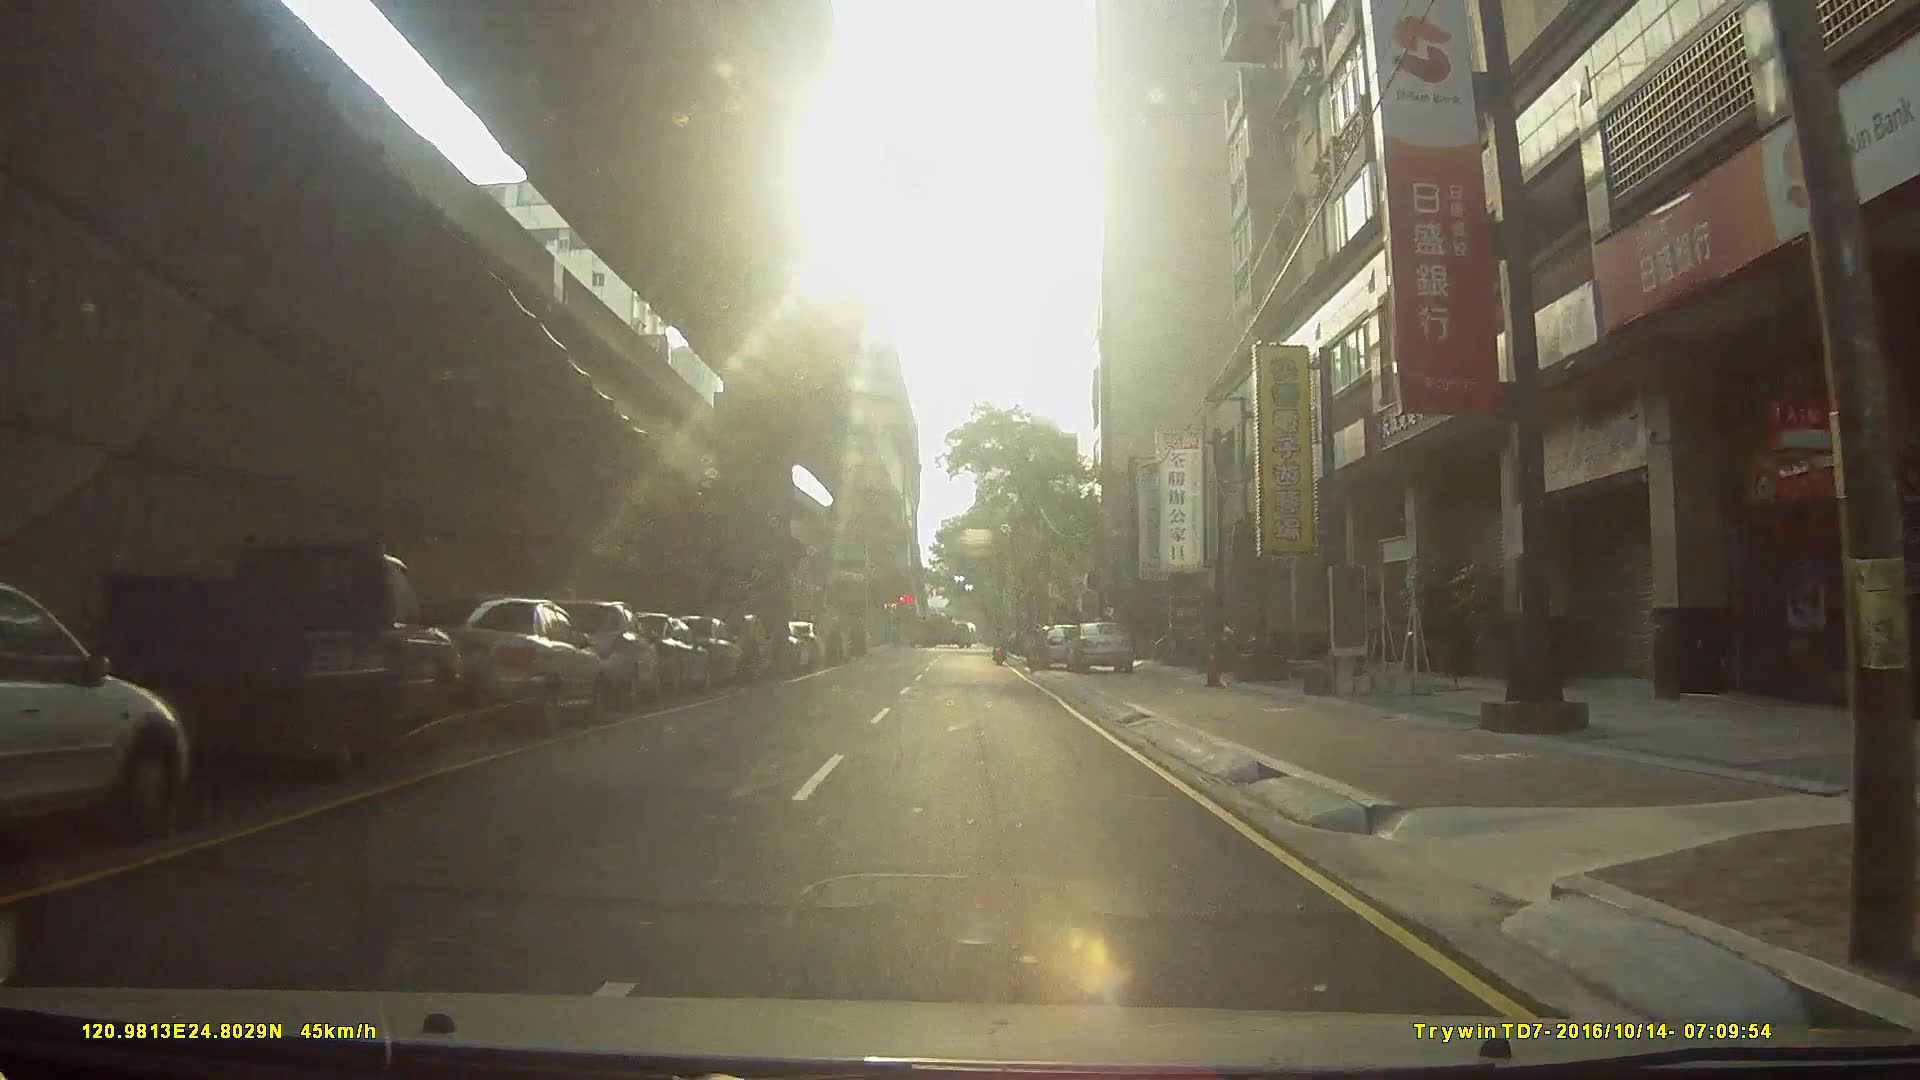vehicle: (98, 533, 463, 781), (0, 578, 189, 851), (418, 593, 607, 732), (534, 596, 663, 713), (597, 612, 729, 700), (659, 620, 794, 670), (1062, 618, 1135, 671)
